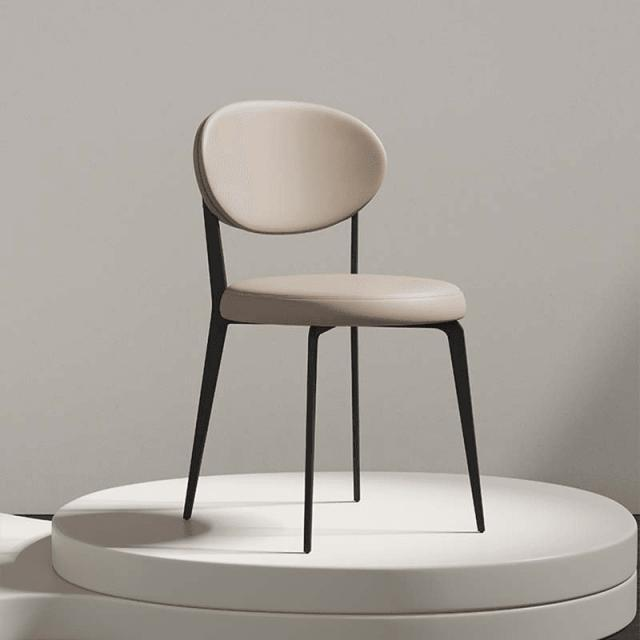chair: (178, 96, 492, 555), (187, 106, 471, 320)
